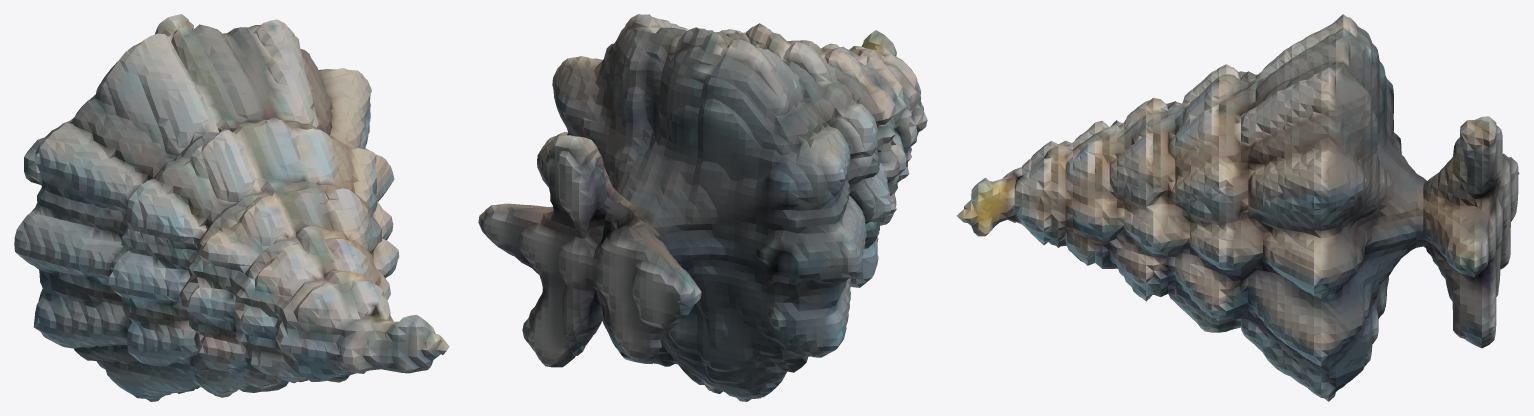
3 renders of one model, left to right at view 1: azimuth 30°, elevation 25°; view 2: azimuth 150°, elevation 25°; view 3: azimuth 270°, elevation 25°, orthographic. The views are drawn at different scales.
Visible parts, largest first — view 1: world; view 2: world; view 3: world.
Boxes of the visible parts, x1,y1,x2,y2 form: world: (14, 14, 449, 401); world: (478, 14, 927, 401); world: (956, 14, 1519, 401).
Bounding box in the file's own units: 0.6943 × 0.6933 × 1.06.
